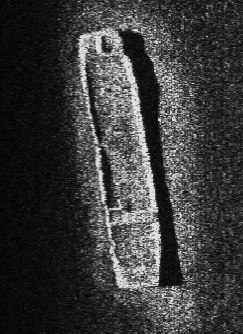ship: (75, 25, 168, 296)
